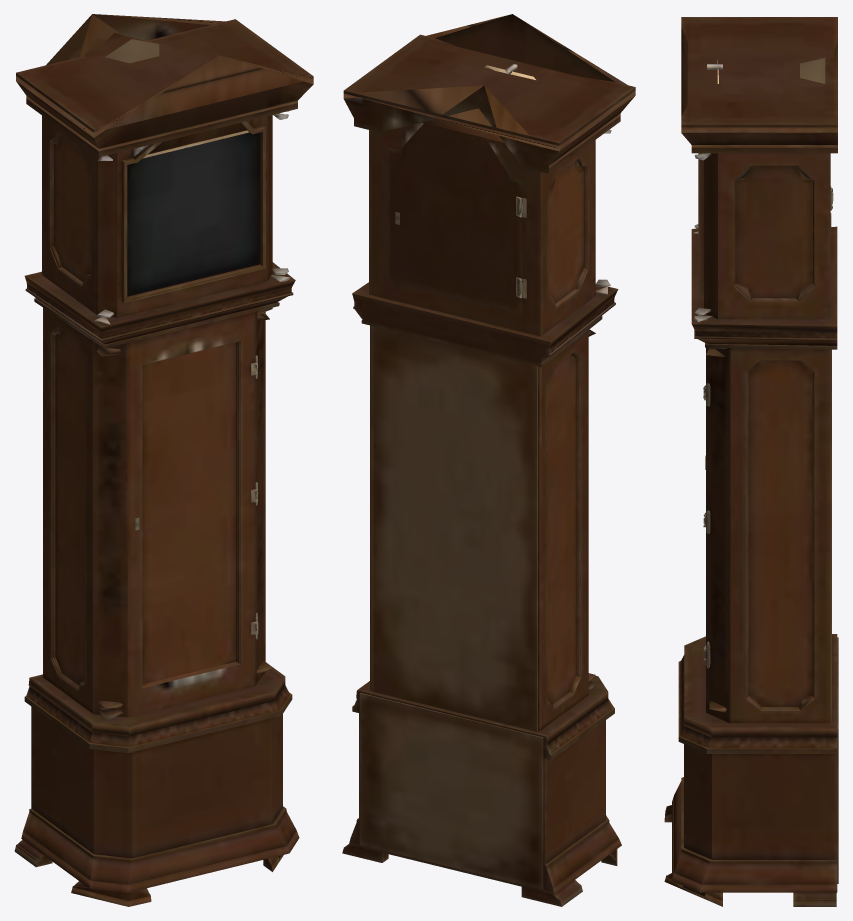
File: clock.glb
3 renders of one model, left to right at view 1: azimuth 30°, elevation 25°; view 2: azimuth 150°, elevation 25°; view 3: azimuth 270°, elevation 25°, orthographic. The views are drawn at different scales.
Visible parts, largest first — view 1: vintage_grandfather_clock_01_Body; view 2: vintage_grandfather_clock_01_Body; view 3: vintage_grandfather_clock_01_Body.
Part boxes in pixels (x1,y1,x2,y2): vintage_grandfather_clock_01_Body: (14, 14, 313, 906); vintage_grandfather_clock_01_Body: (342, 14, 635, 906); vintage_grandfather_clock_01_Body: (664, 17, 838, 906).
Bounding box in the file's own units: 0.6168 × 2.17 × 0.4137.
Materials: 2 (2 with a texture image).
